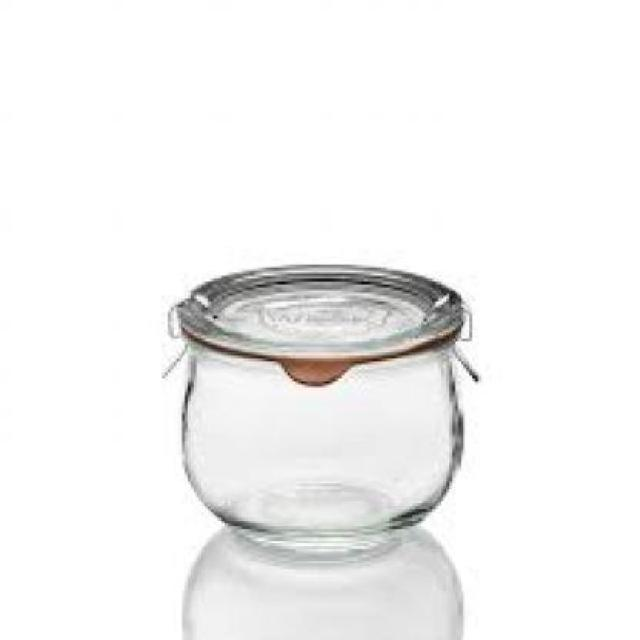kaca: (174, 262, 463, 552)
